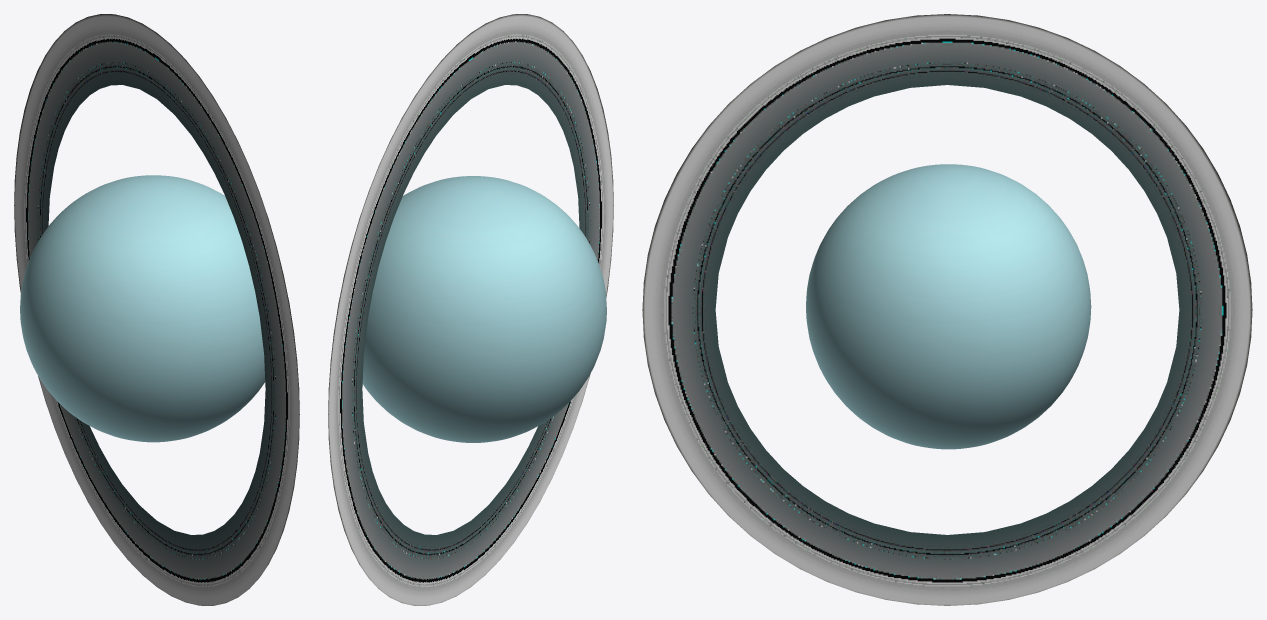
The model's file is uranus.fbx.
3 renders of one model, left to right at view 1: azimuth 30°, elevation 25°; view 2: azimuth 150°, elevation 25°; view 3: azimuth 270°, elevation 25°, orthographic. The views are drawn at different scales.
Parts seen in each view (by area): view 1: 천왕성_2, 고리; view 2: 천왕성_2, 고리; view 3: 고리, 천왕성_2.
Part boxes in pixels (x1,y1,x2,y2): 천왕성_2: (20, 175, 265, 442); 고리: (14, 14, 299, 605); 천왕성_2: (362, 176, 606, 442); 고리: (328, 14, 613, 605); 고리: (642, 14, 1252, 605); 천왕성_2: (806, 164, 1091, 449).
Bounding box in the file's own units: 39.49 × 84.4 × 90.36.
2 materials, 2 textured.
